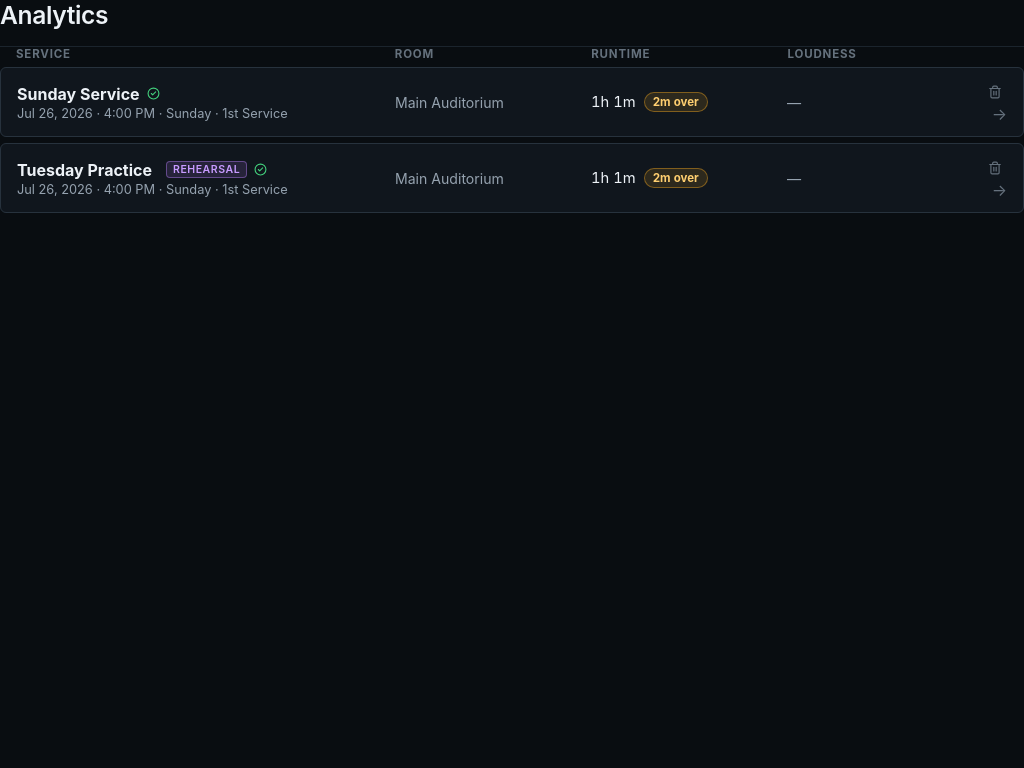
Test: Analytics › cancel keeps the run; a failed delete shows the error and keeps the row
The image size is (1024, 768).
Click the button named "Delete Sunday Service".
click(995, 92)  # box top-left (983, 80), bottom-right (1007, 104)
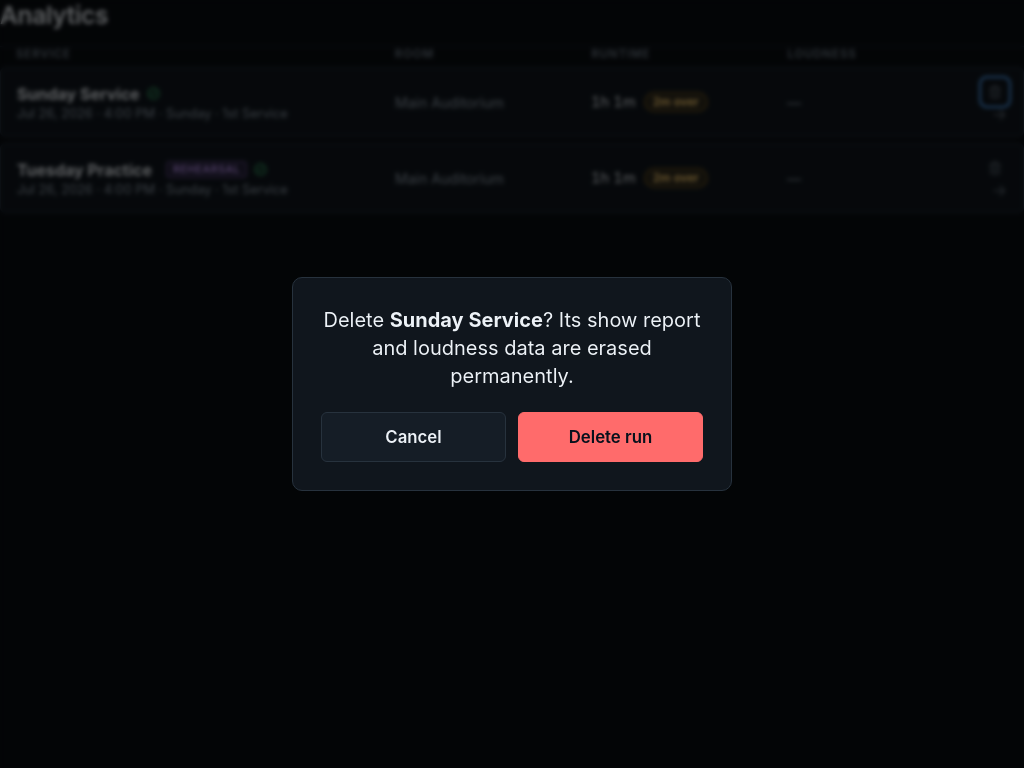
Click the button "Cancel".
click(414, 437)  # box top-left (321, 412), bottom-right (506, 462)
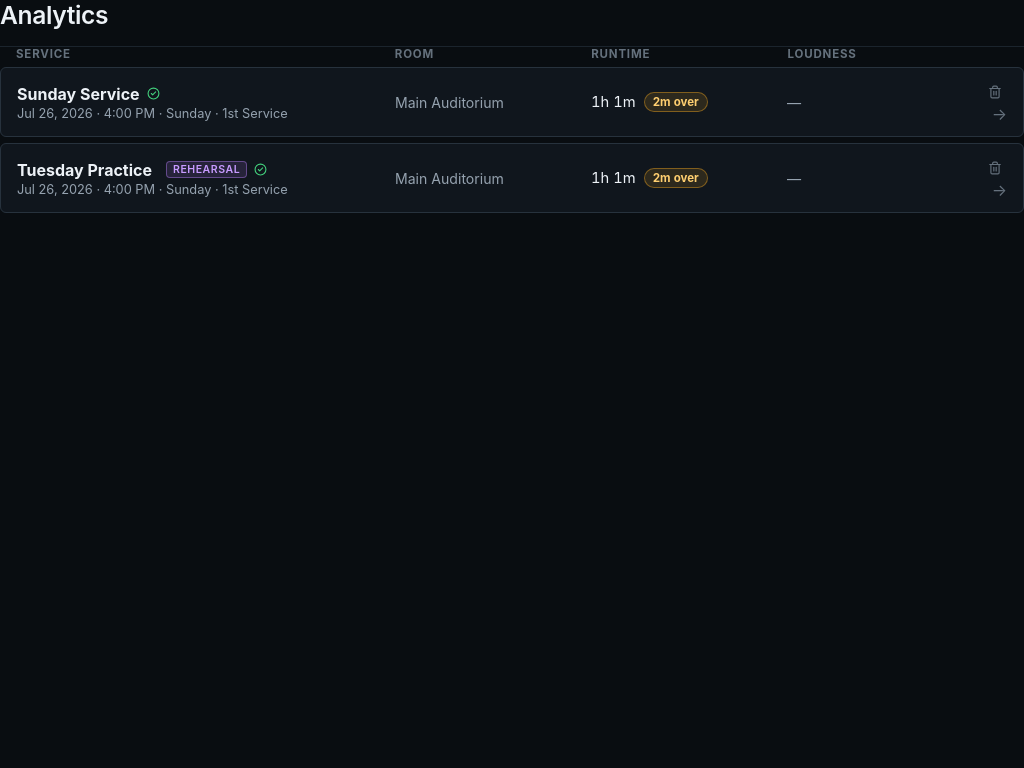
Expected: the dialog is gone
Click the button named "Delete Sunday Service".
click(995, 92)  # box top-left (983, 80), bottom-right (1007, 104)
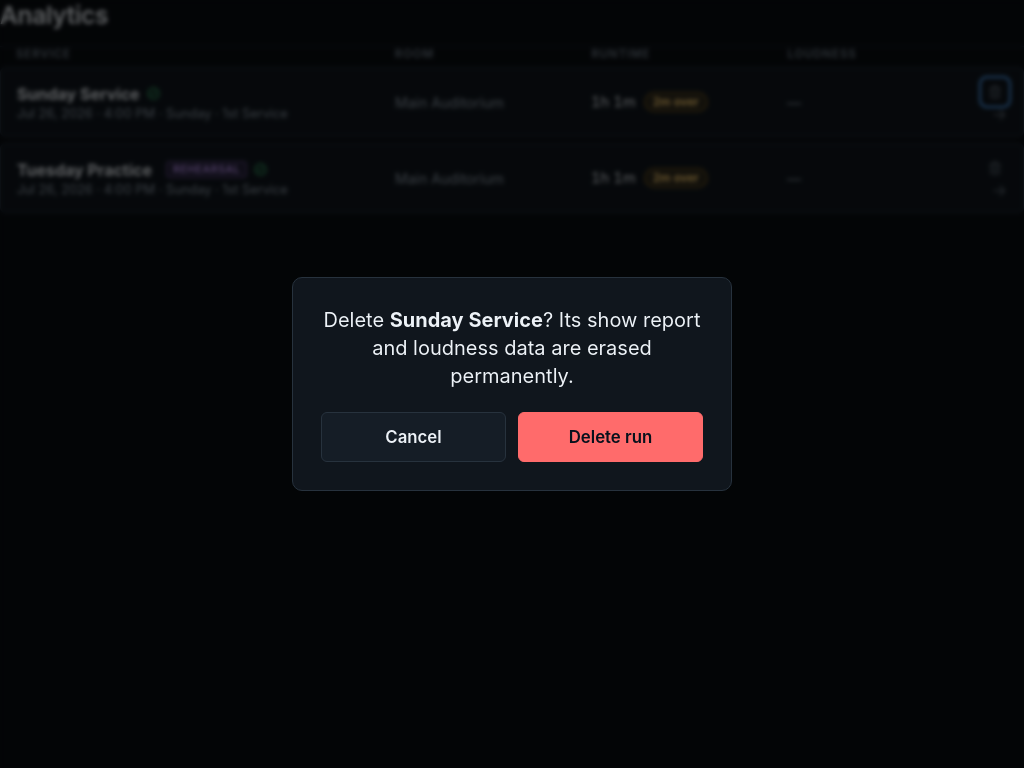
Click the button "Delete run".
click(610, 437)  # box top-left (518, 412), bottom-right (703, 462)
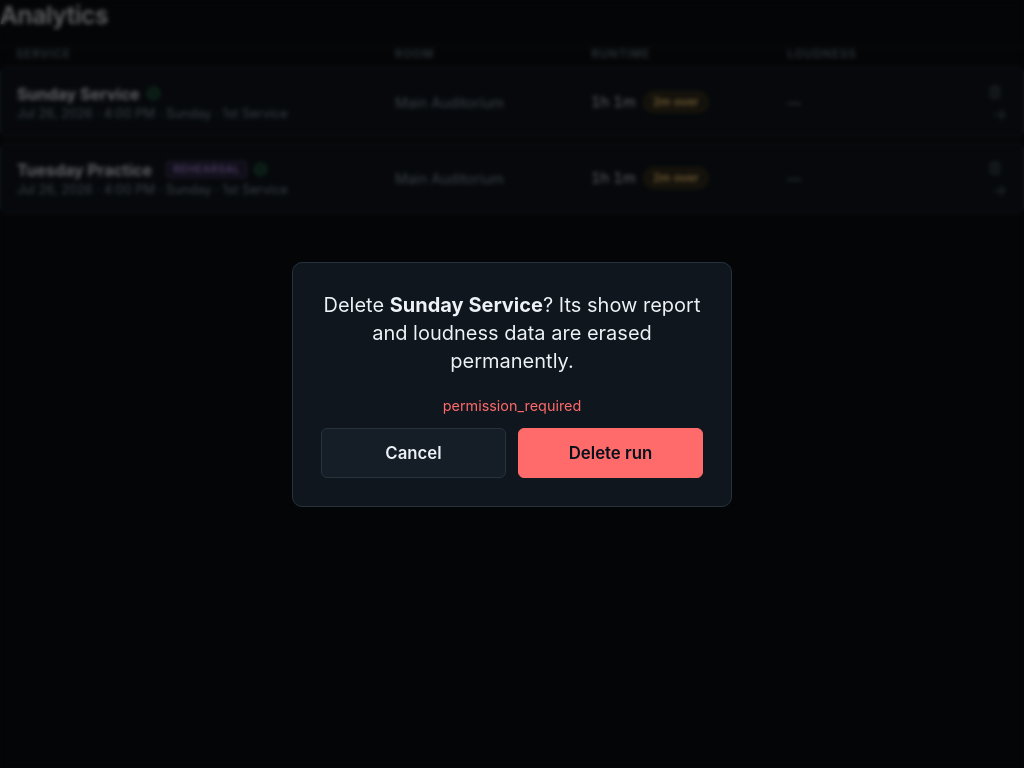
Expected: the text "permission_required" is shown, top-left (443, 396), bottom-right (581, 414)
